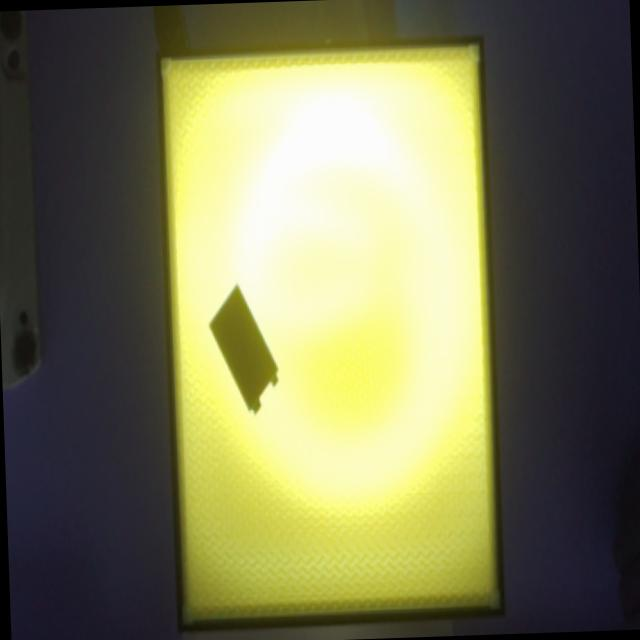bateria: (208, 283, 278, 412)
mesa: (156, 35, 505, 632)
